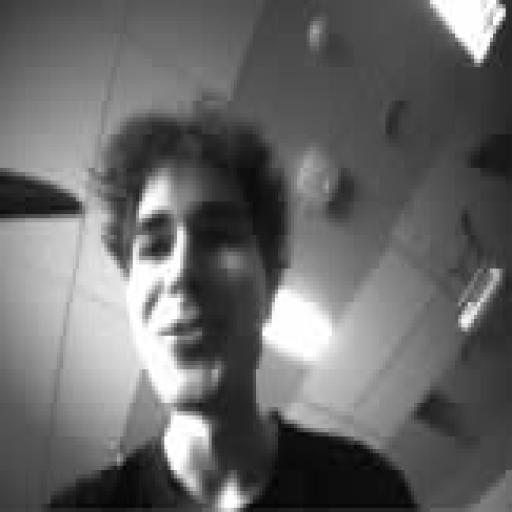human: (48, 105, 414, 511)
